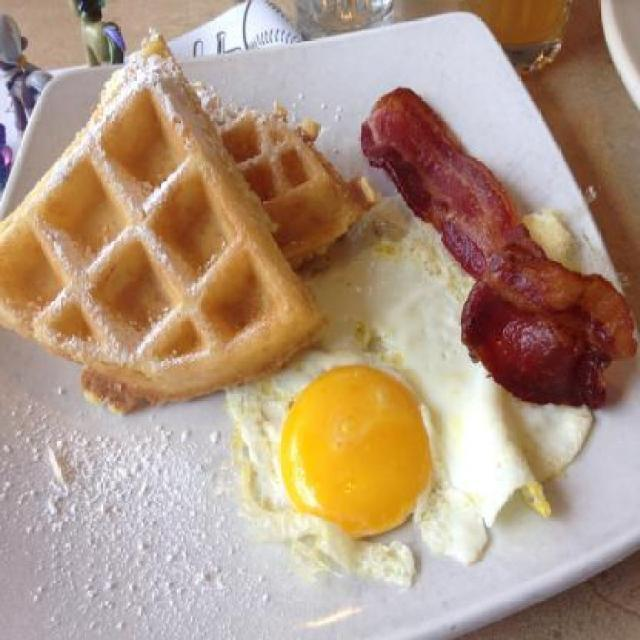Waffle: (0, 32, 329, 414), (198, 74, 386, 274)
